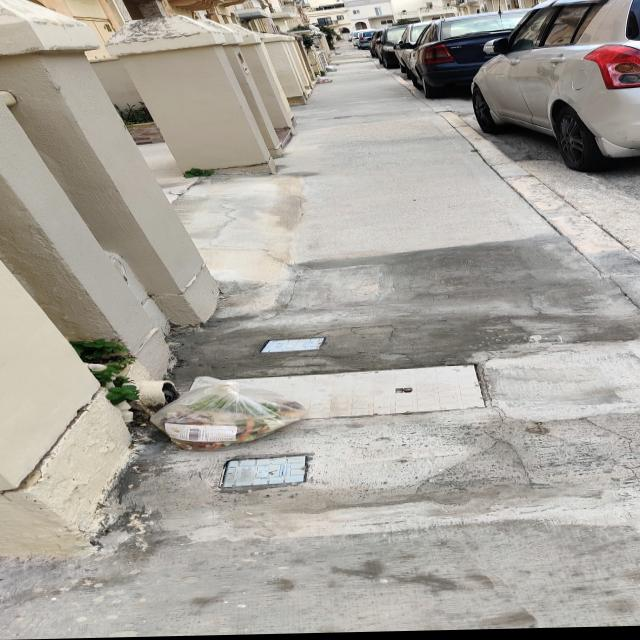Organic Waste -White Bags-: (142, 385, 305, 455), (316, 77, 333, 85), (325, 67, 337, 73), (334, 54, 342, 57)
